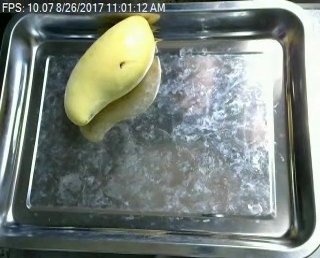Mango: (57, 18, 161, 124)
